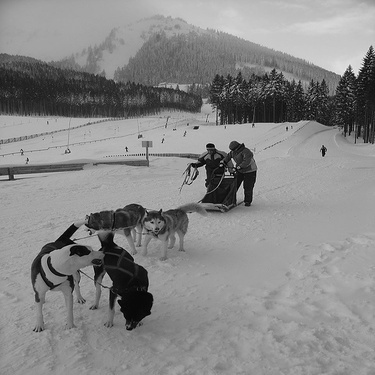dog: (63, 209, 156, 335), (19, 213, 103, 336), (125, 192, 214, 263), (70, 195, 150, 256)
